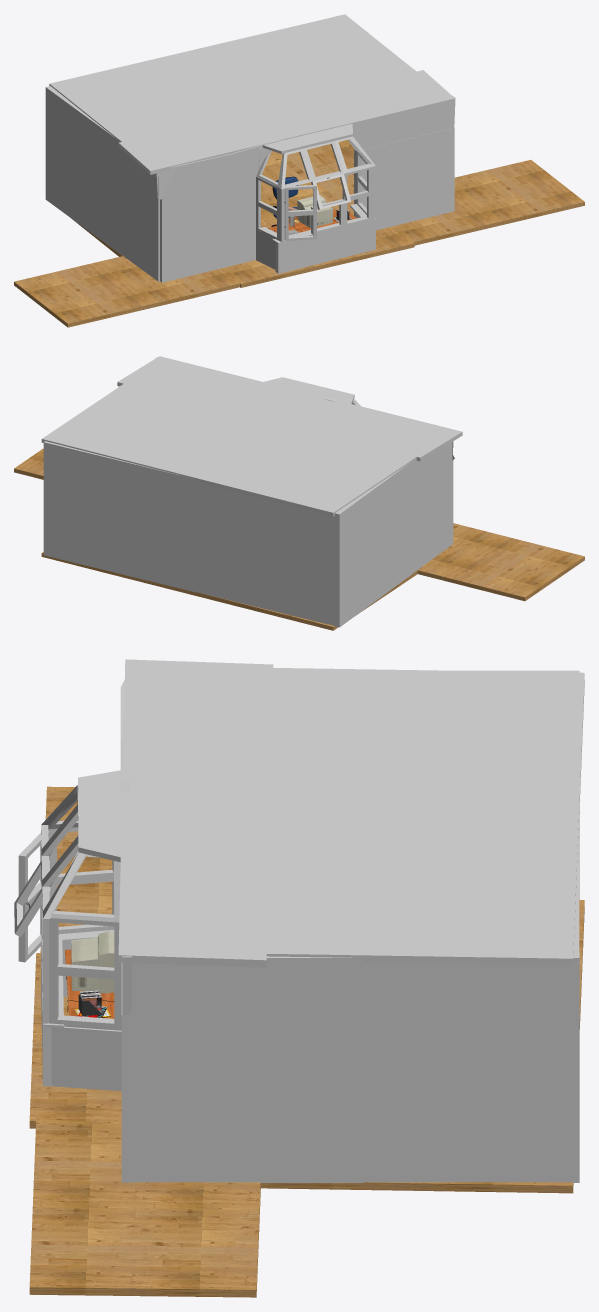
3 views of the same model, one above another, from view 1: azimuth 30°, elevation 25°; view 2: azimuth 150°, elevation 25°; view 3: azimuth 270°, elevation 25° (orthographic). The views are drawn at different scales.
Visible parts, largest first — view 1: floor.005, floor.001, Cube.031, Cube.024, Cube.035, Cube.017, hinge, crt, Cube.019, Cube.028, Cube.027, Cube.006 (+3 smaller); view 2: floor.005, Cube.041, Cube.031, floor.001, hinge, Cube.029; view 3: floor.005, Cube.038, floor.001, Cube.018, hinge, Cube.021, crt, Cube.010, Cube.009, Cube.020, Cube.005, Cube.025 (+2 smaller).
Part boxes in pixels (bbox=[...]): floor.005: bbox=[49, 14, 455, 174]; floor.001: bbox=[14, 140, 584, 327]; Cube.031: bbox=[45, 86, 159, 281]; Cube.024: bbox=[156, 136, 288, 282]; Cube.035: bbox=[348, 96, 455, 230]; Cube.017: bbox=[275, 220, 375, 273]; hinge: bbox=[262, 123, 352, 153]; crt: bbox=[297, 195, 332, 228]; Cube.019: bbox=[256, 231, 275, 269]; Cube.028: bbox=[280, 148, 312, 189]; Cube.027: bbox=[303, 141, 344, 181]; Cube.006: bbox=[284, 185, 316, 214]; floor.005: bbox=[41, 356, 462, 516]; Cube.041: bbox=[48, 443, 334, 625]; Cube.031: bbox=[334, 442, 452, 627]; floor.001: bbox=[14, 448, 584, 630]; hinge: bbox=[264, 377, 354, 403]; Cube.029: bbox=[43, 441, 48, 556]; floor.005: bbox=[118, 659, 584, 967]; Cube.038: bbox=[129, 958, 579, 1182]; floor.001: bbox=[29, 786, 584, 1297]; Cube.018: bbox=[51, 1026, 121, 1091]; hinge: bbox=[78, 770, 122, 862]; Cube.021: bbox=[121, 963, 133, 1182]; crt: bbox=[71, 931, 114, 992]; Cube.010: bbox=[49, 970, 121, 1028]; Cube.009: bbox=[49, 918, 121, 975]; Cube.020: bbox=[42, 836, 85, 918]; Cube.005: bbox=[14, 860, 50, 936]; Cube.025: bbox=[50, 851, 120, 922].
Bounding box in the file's own units: 10.53 × 2.3 × 5.05.
Materials: 40 (30 with a texture image).
